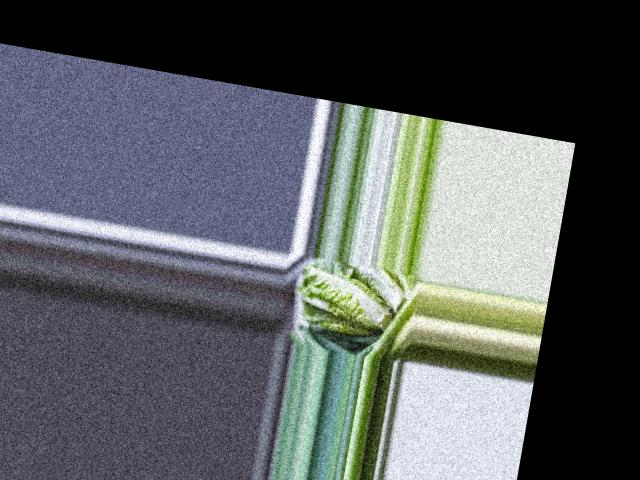lettuce: (291, 264, 399, 342)
